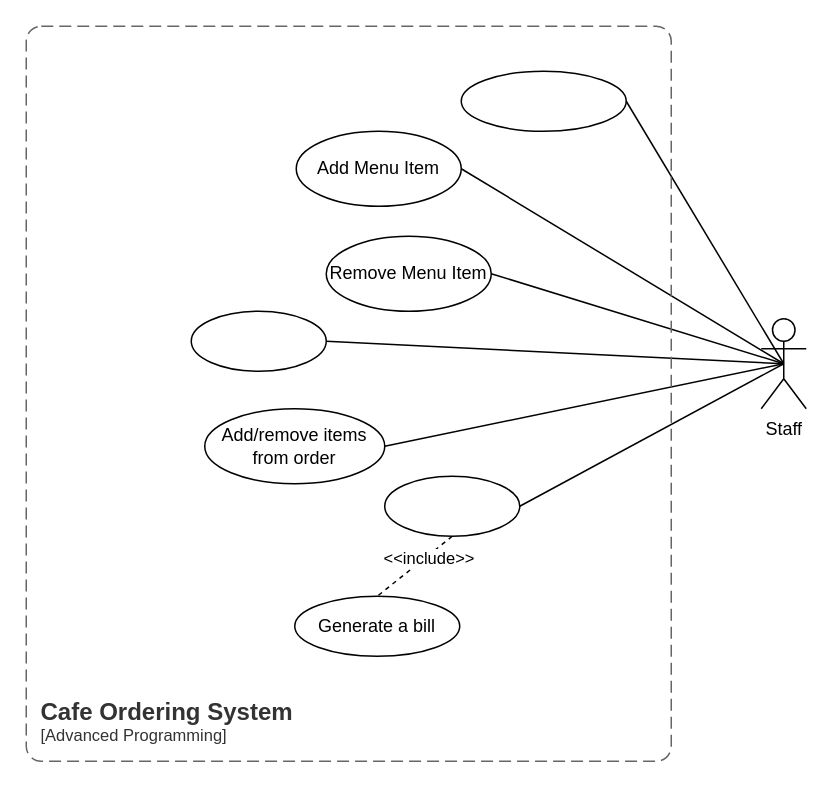
The diagram is 833 pixels wide and 788 high, and some of its shapes have lost their labels. Each missing label, with the centre of its shape:
Create an order: (258,340)
Take payment: (451,505)
View Menu: (543,100)
